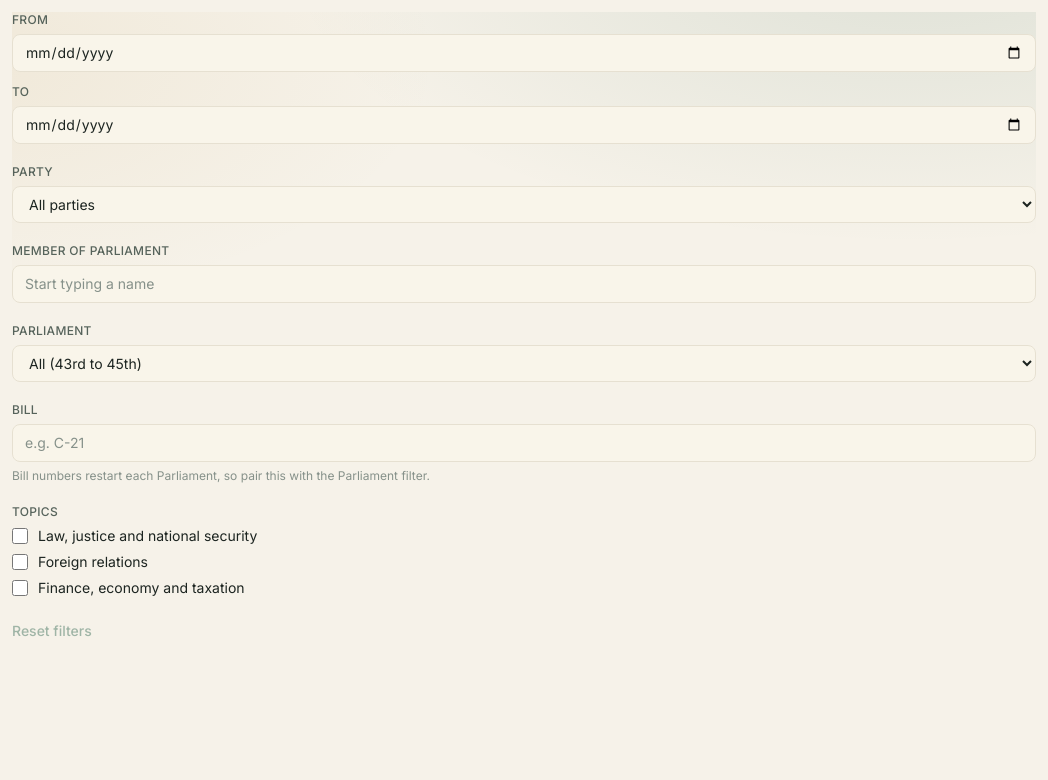
Test: FilterPanel › clears the name filter when the name is edited, and Reset clears everything
In the dropdown labelled "Member of Parliament": (524, 284) [12,265,1036,303], type "ann"
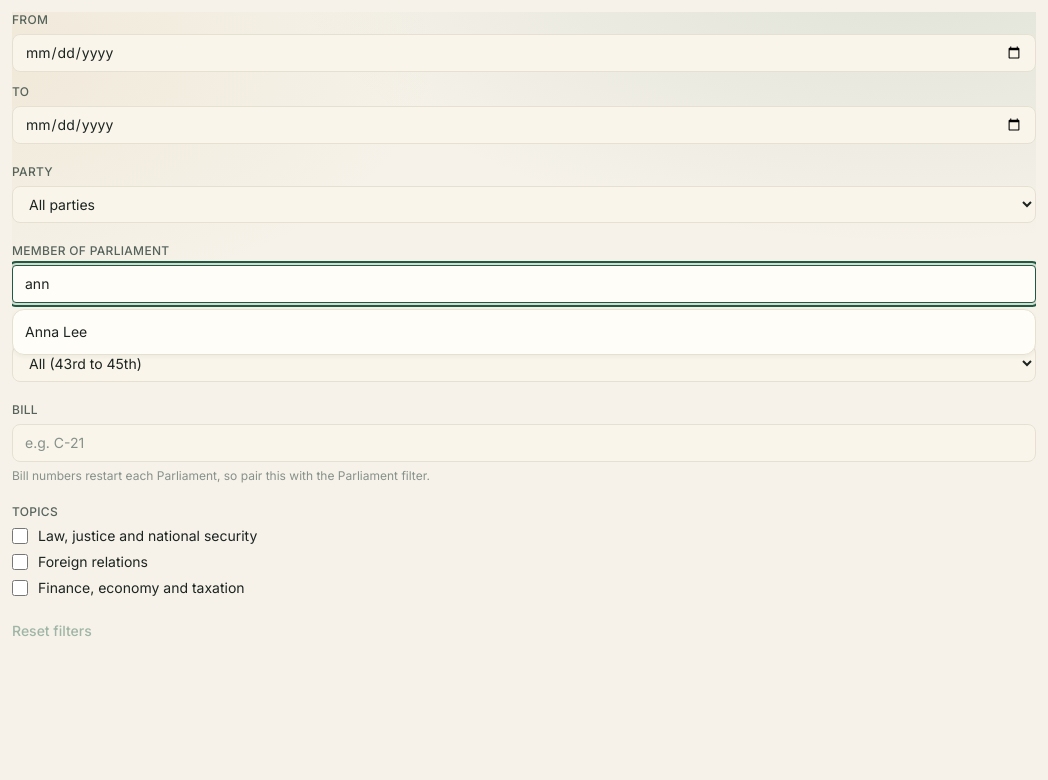
Click the option "Anna Lee": (56, 332) [25,323,87,340]
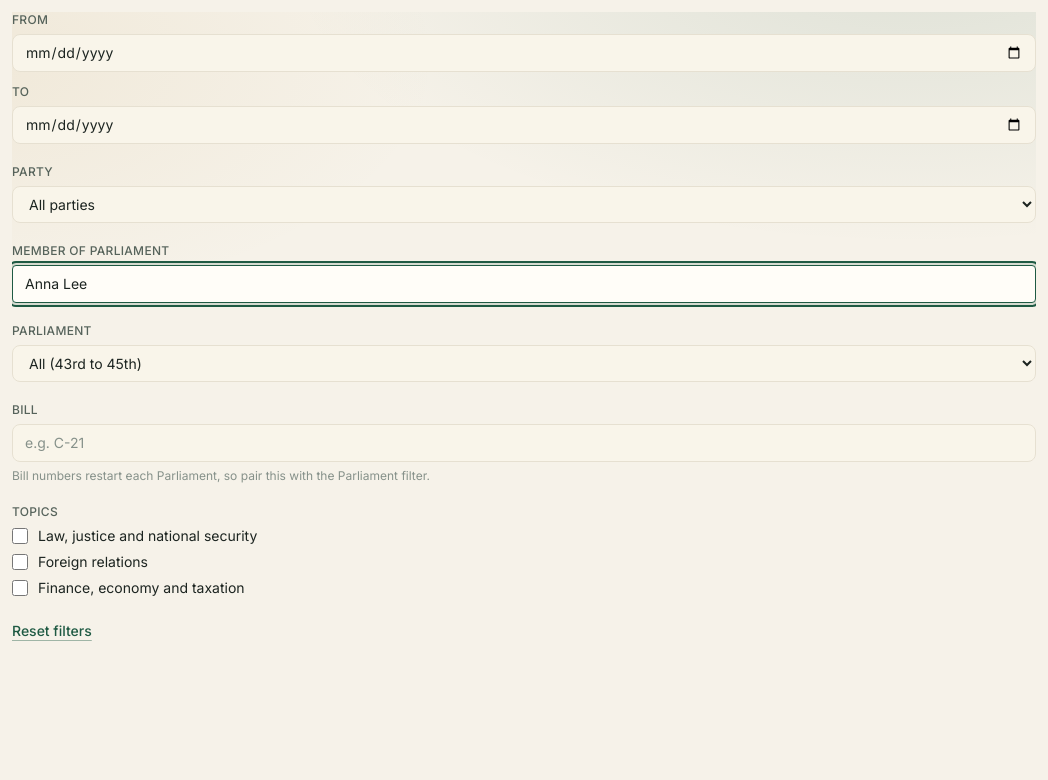
In the dropdown labelled "Member of Parliament": (524, 284) [12,265,1036,303], type "x"
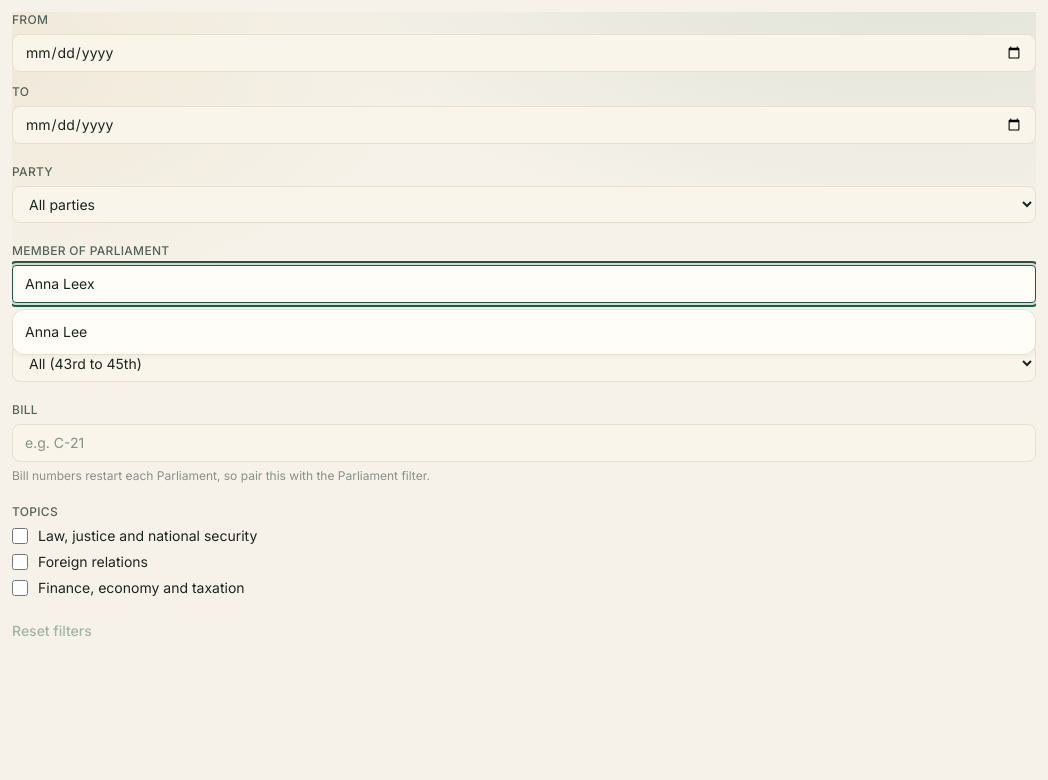
Select "Liberal" in the dropdown labelled "Party": (524, 204) [12,186,1036,223]
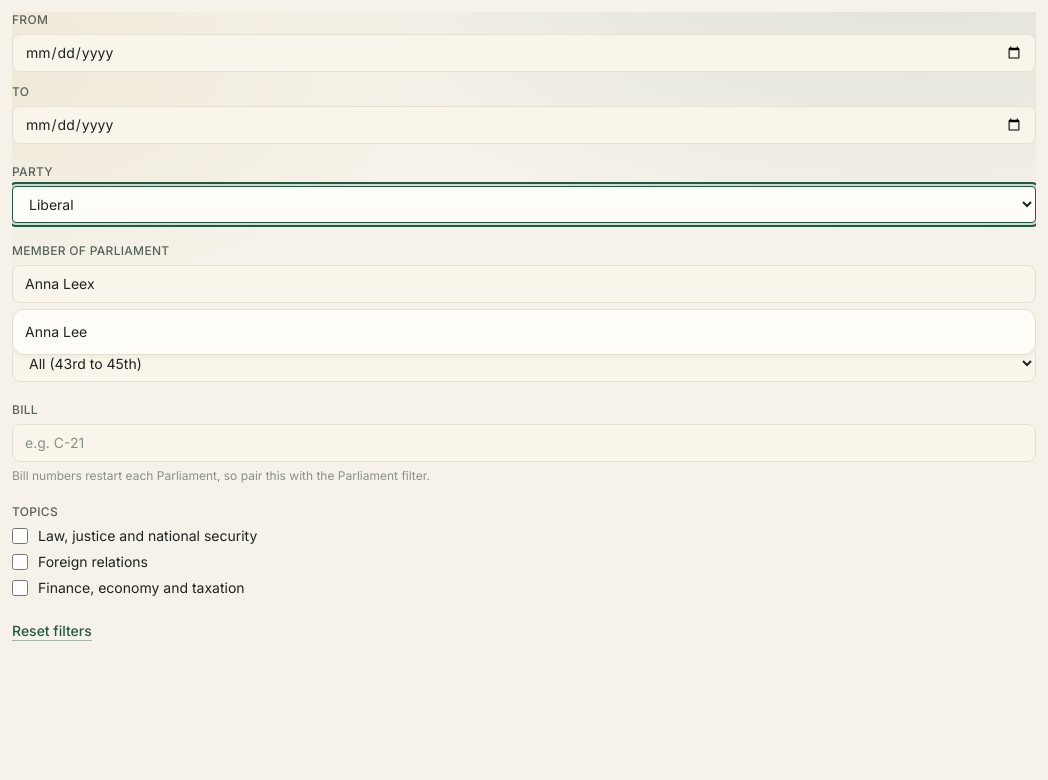
Click the button "Reset filters": (52, 631) [12,621,92,641]
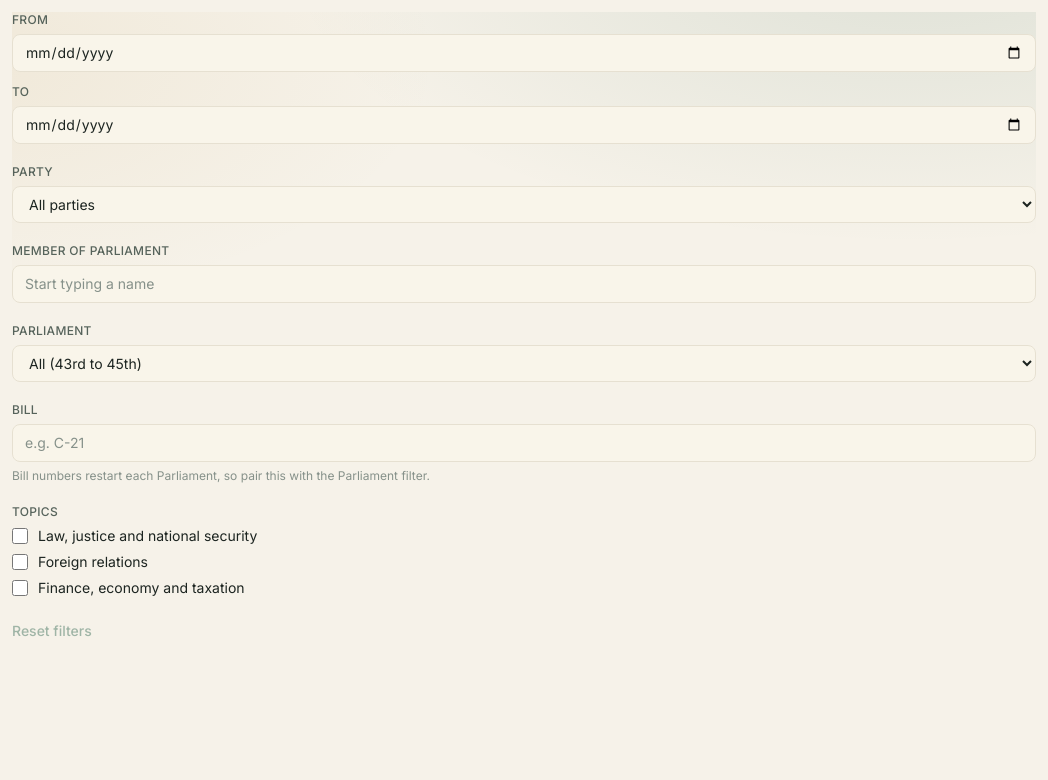
Now the dropdown labelled "Member of Parliament" is empty, box [12,265,1036,303]
